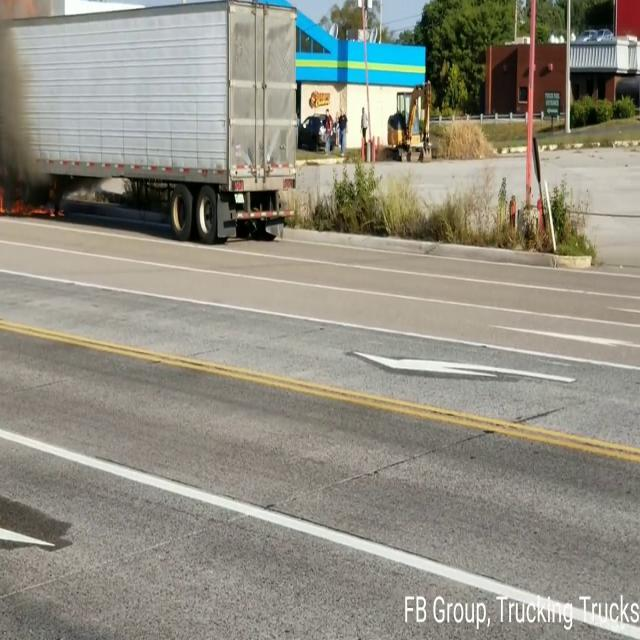Smoke: (0, 1, 64, 210)
